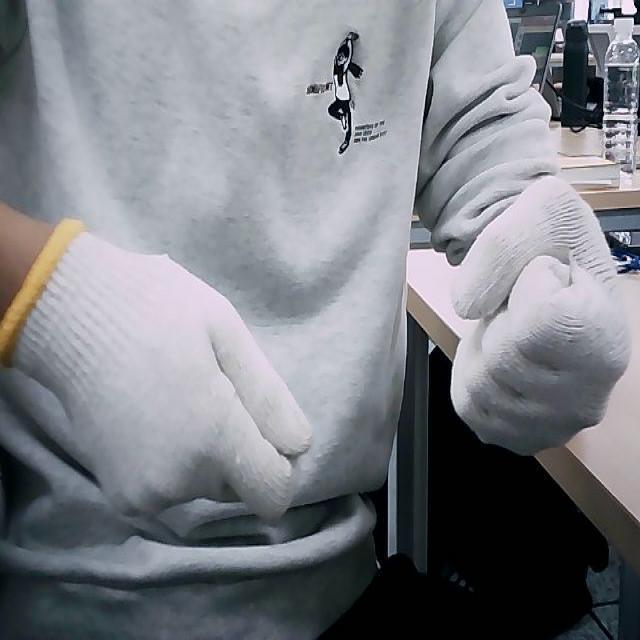gloves: (0, 215, 315, 524), (449, 176, 632, 454)
